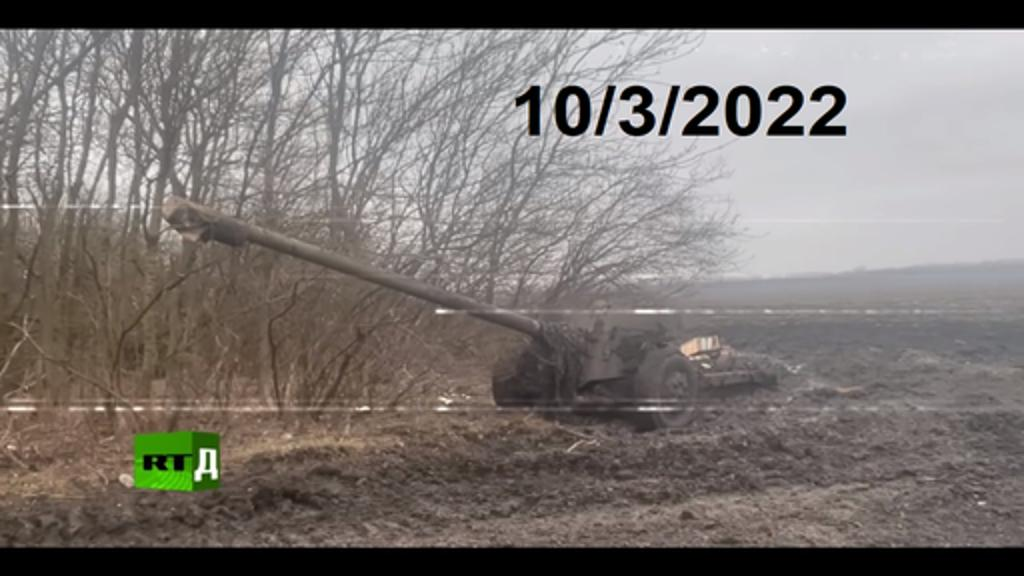ART: (162, 192, 780, 434)
